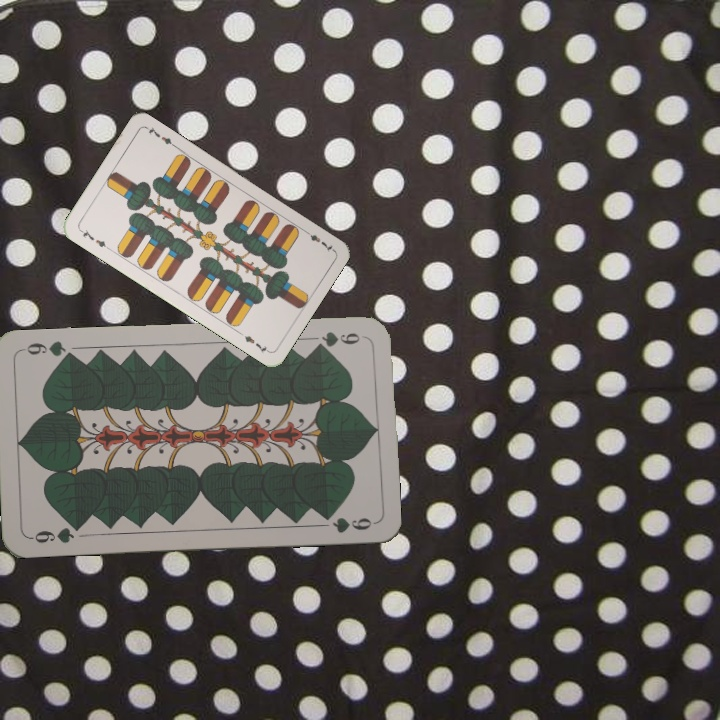E7: (300, 226, 336, 255), (76, 225, 112, 252)
G9: (26, 520, 85, 546), (310, 327, 368, 352)
